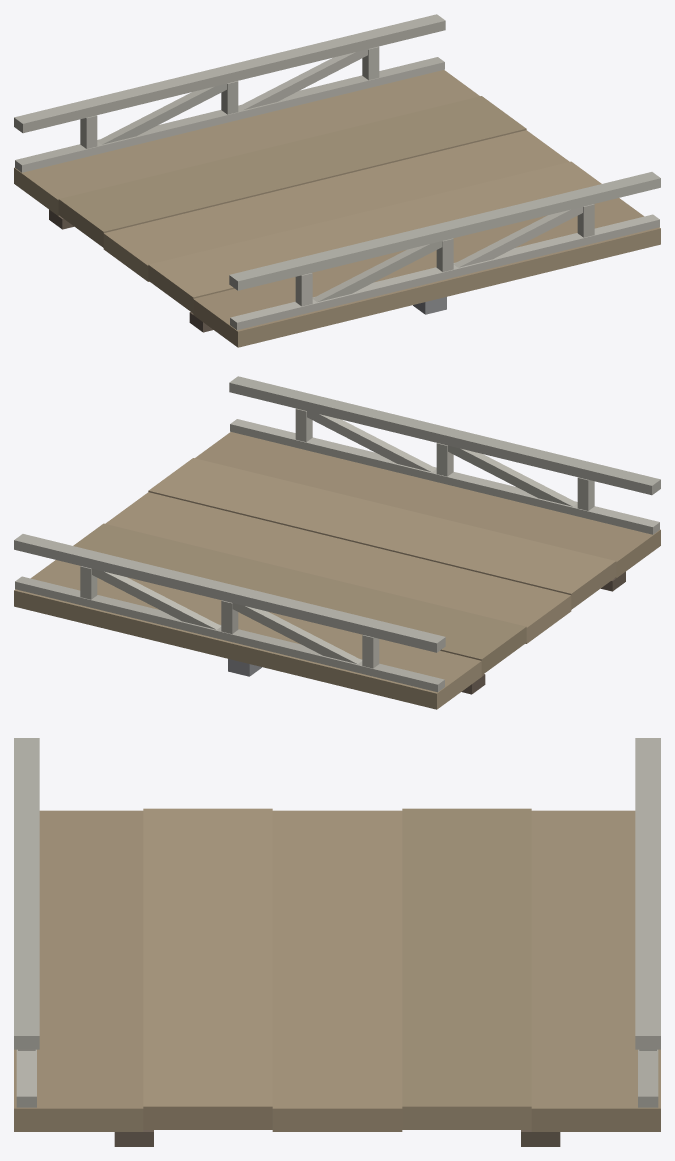
Rendered from bridge_block.glb.
3 views of the same model, one above another, from view 1: azimuth 30°, elevation 25°; view 2: azimuth 150°, elevation 25°; view 3: azimuth 270°, elevation 25° (orthographic). The views are drawn at different scales.
Visible parts, largest first — view 1: bridge_block_planks, bridge_block_rails; view 2: bridge_block_planks, bridge_block_rails; view 3: bridge_block_planks, bridge_block_rails, bridge_block_stringers.
Boxes of the visible parts, x1,y1,x2,y2 form: bridge_block_planks: [14, 70, 660, 347]; bridge_block_rails: [14, 14, 660, 330]; bridge_block_planks: [14, 432, 660, 709]; bridge_block_rails: [14, 376, 660, 692]; bridge_block_planks: [14, 808, 660, 1131]; bridge_block_rails: [14, 738, 660, 1107]; bridge_block_stringers: [114, 1130, 560, 1146].
Size of the model in its own units: 9.37 by 1.95 by 8.6.
